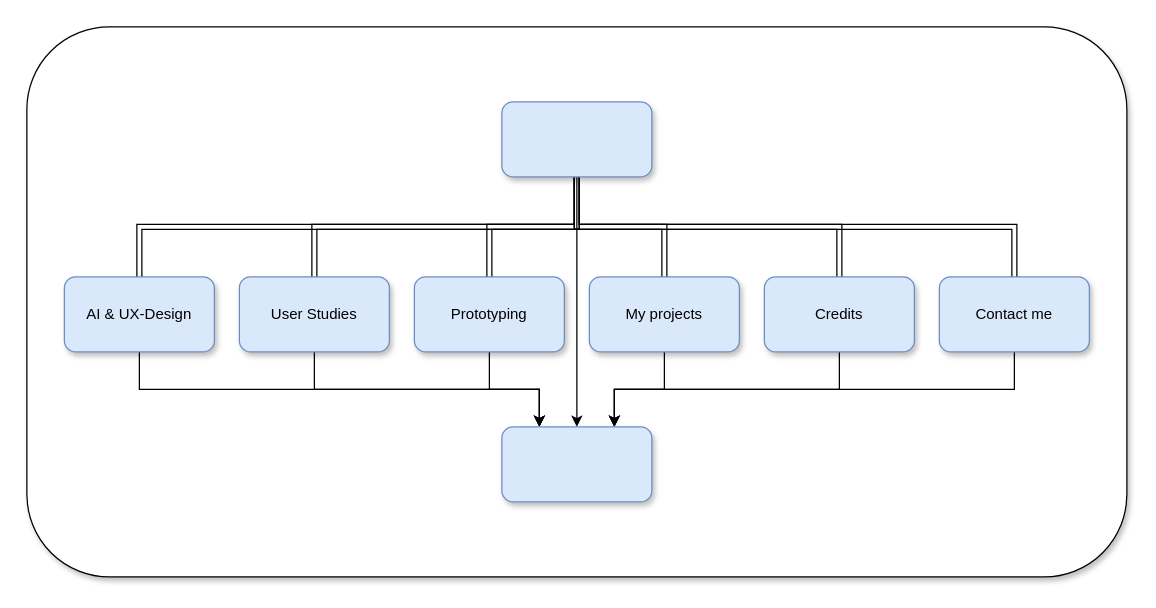
Image size: 1156x608. Some labels were removed from this diagram. The centre of each missing label's shape, as x and y in pixels:
"Github" belongs at pixel 577 466.
"Home" belongs at pixel 577 141.
